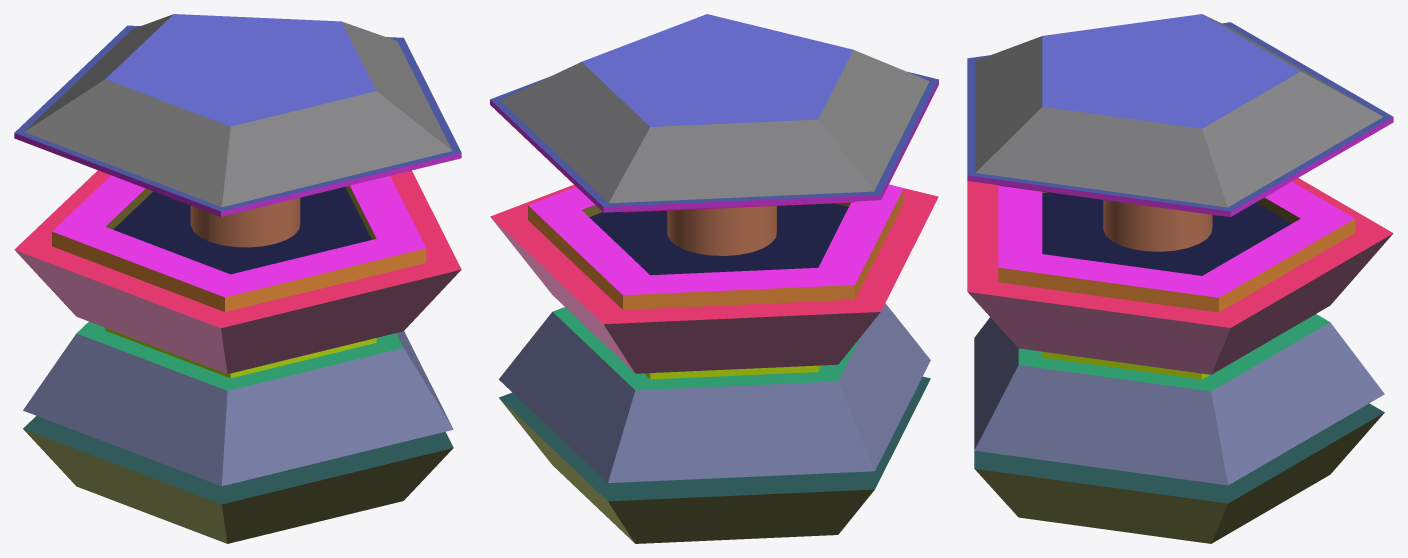
The model's file is Iteration1Colored.fbx.
3 views of the same model, side by side, from view 1: azimuth 30°, elevation 25°; view 2: azimuth 150°, elevation 25°; view 3: azimuth 270°, elevation 25° (orthographic).
Parts seen in each view (by area): view 1: Model; view 2: Model; view 3: Model.
Boxes of the visible parts, box(x1,y1,x2,y2) form: Model: box(14, 14, 461, 543); Model: box(490, 14, 938, 543); Model: box(967, 14, 1393, 543).
Size of the model in its own units: 705 by 700 by 670.
